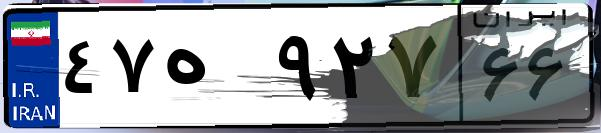2: (330, 28, 385, 110)
4: (57, 26, 110, 100)
6: (475, 38, 525, 113), (525, 38, 570, 115)
7: (385, 28, 445, 110), (110, 28, 158, 98)
9: (270, 28, 330, 110)
ه: (158, 20, 270, 120)
